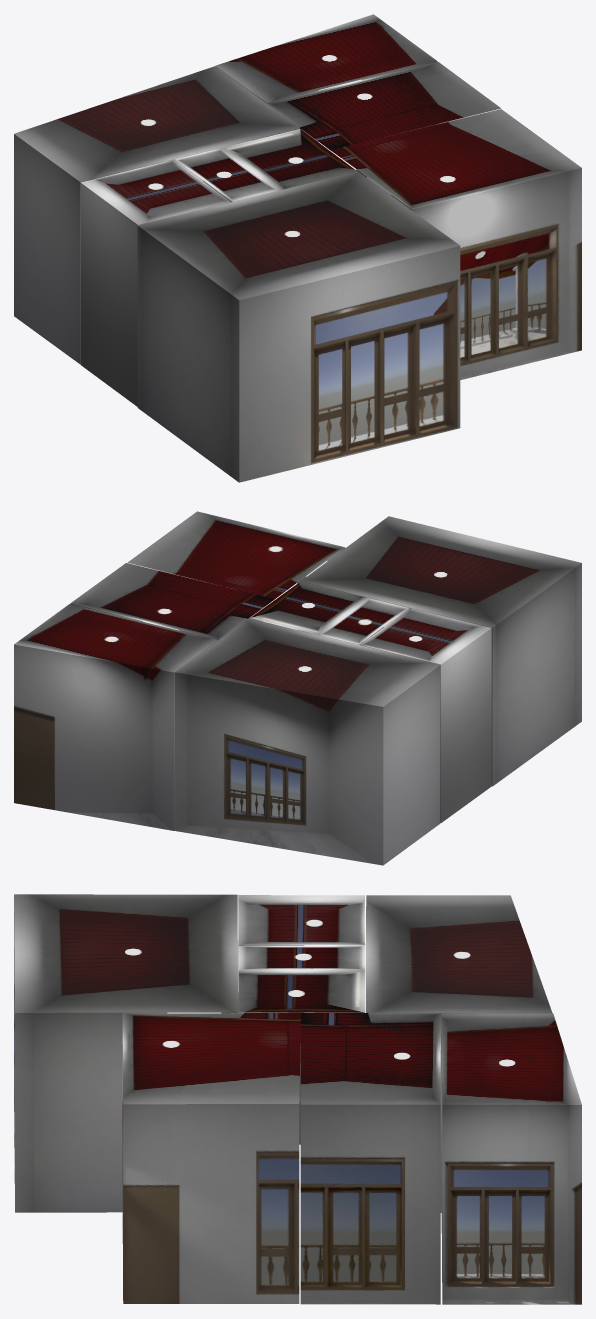
Rendered from floor2.glb.
3 views of the same model, one above another, from view 1: azimuth 30°, elevation 25°; view 2: azimuth 150°, elevation 25°; view 3: azimuth 270°, elevation 25° (orthographic). The views are drawn at different scales.
Parts seen in each view (by area): view 1: Bedroom4 Mesh, Landing 2 Mesh, Bedroom5 Mesh, Bathroom2 Mesh, Landing Mesh, Bedroom3 Mesh, Hallway 1 Mesh, Hallway 2 Mesh; view 2: Bedroom5 Mesh, Bedroom3 Mesh, Bedroom4 Mesh, Bathroom2 Mesh, Landing 2 Mesh, Landing Mesh, Hallway 1 Mesh, Hallway 2 Mesh; view 3: Landing 2 Mesh, Bedroom4 Mesh, Landing Mesh, Bedroom3 Mesh, Bedroom5 Mesh, Bathroom2 Mesh, Hallway 1 Mesh, Hallway 2 Mesh.
Boxes of the visible parts, bbox=[...] form: Bedroom4 Mesh: bbox=[137, 171, 460, 482]; Landing 2 Mesh: bbox=[330, 109, 581, 379]; Bedroom5 Mesh: bbox=[14, 66, 299, 364]; Bathroom2 Mesh: bbox=[80, 159, 230, 406]; Landing Mesh: bbox=[266, 61, 500, 149]; Bedroom3 Mesh: bbox=[215, 14, 437, 194]; Hallway 1 Mesh: bbox=[220, 129, 357, 190]; Hallway 2 Mesh: bbox=[175, 148, 277, 202]; Bedroom5 Mesh: bbox=[175, 618, 440, 865]; Bedroom3 Mesh: bbox=[14, 604, 218, 830]; Bedroom4 Mesh: bbox=[300, 516, 581, 786]; Bathroom2 Mesh: bbox=[360, 608, 491, 822]; Landing 2 Mesh: bbox=[128, 511, 345, 630]; Landing Mesh: bbox=[70, 563, 274, 640]; Hallway 1 Mesh: bbox=[250, 581, 369, 641]; Hallway 2 Mesh: bbox=[320, 598, 409, 644]; Landing 2 Mesh: bbox=[122, 1013, 300, 1303]; Bedroom4 Mesh: bbox=[14, 894, 238, 1212]; Landing Mesh: bbox=[300, 1013, 440, 1304]; Bedroom3 Mesh: bbox=[441, 1013, 581, 1304]; Bedroom5 Mesh: bbox=[366, 895, 552, 1212]; Bathroom2 Mesh: bbox=[238, 895, 365, 1144]; Hallway 1 Mesh: bbox=[238, 970, 365, 1012]; Hallway 2 Mesh: bbox=[238, 945, 365, 1012].
Size of the model in its own units: 9.32 by 4.13 by 10.64.
24 materials, 24 textured.
